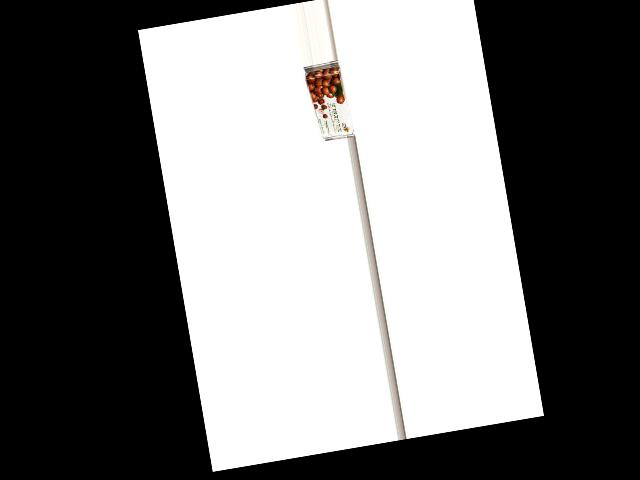chocolate: (302, 61, 352, 143)
